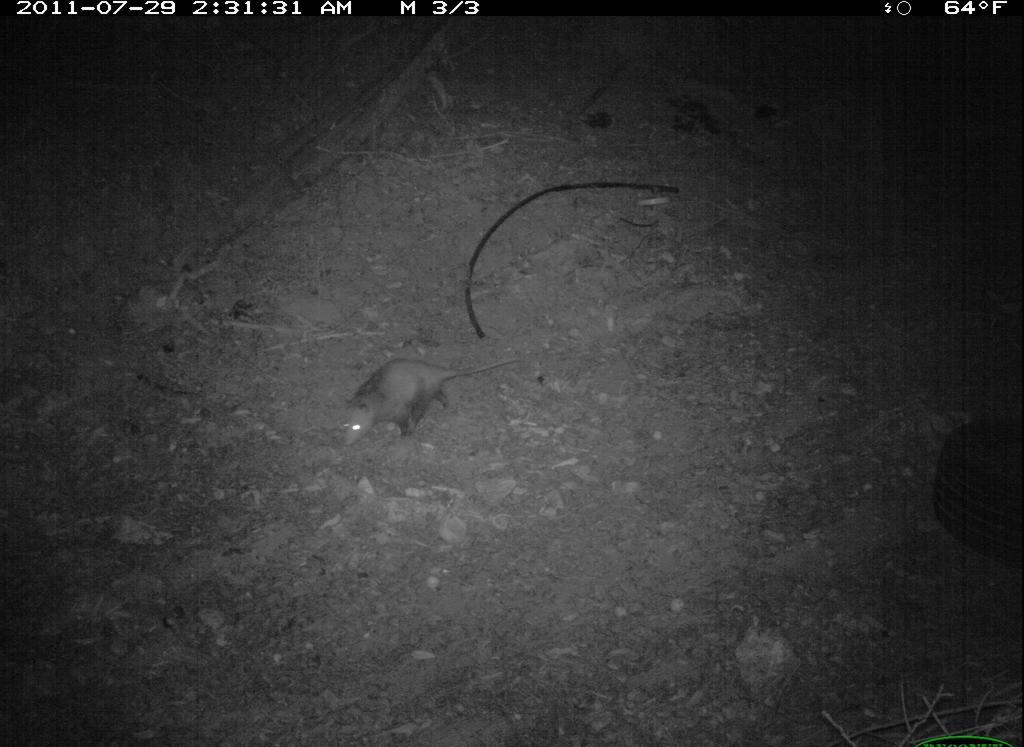opossum: (326, 341, 521, 459)
